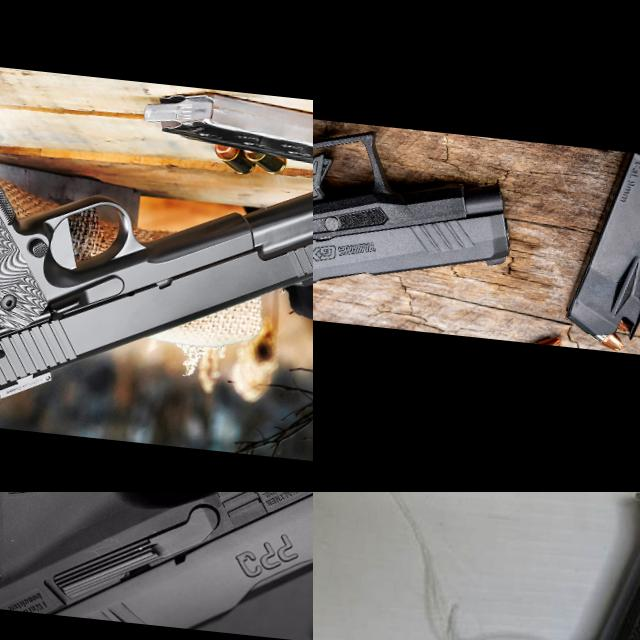handgun: (0, 60, 313, 462), (313, 98, 524, 339), (313, 492, 640, 640), (0, 492, 313, 640)
